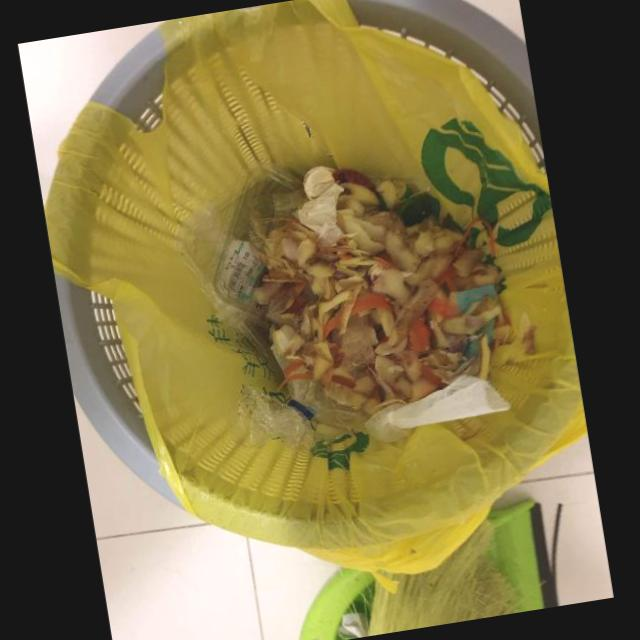giay: (364, 374, 511, 442)
tui_ni_long: (237, 385, 320, 449)
vo_rau_cu: (252, 165, 503, 428)
